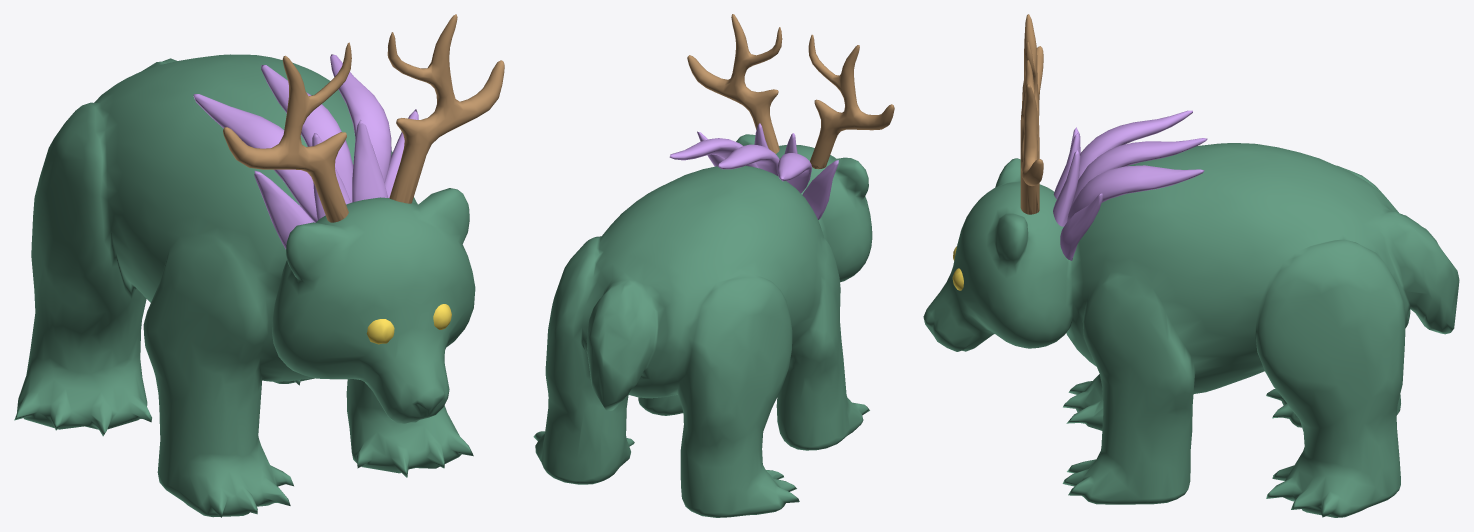
File: creatureLarge_SM.fbx
3 renders of one model, left to right at view 1: azimuth 30°, elevation 25°; view 2: azimuth 150°, elevation 25°; view 3: azimuth 270°, elevation 25°, orthographic. The views are drawn at different scales.
Visible parts, largest first — view 1: creatureLarge_SM; view 2: creatureLarge_SM; view 3: creatureLarge_SM.
Part boxes in pixels (left/top/right/bottom): creatureLarge_SM: left=14, top=14, right=504, bottom=517; creatureLarge_SM: left=533, top=14, right=894, bottom=517; creatureLarge_SM: left=923, top=14, right=1459, bottom=517.
Size of the model in its own units: 2.68 by 3.45 by 4.1.
